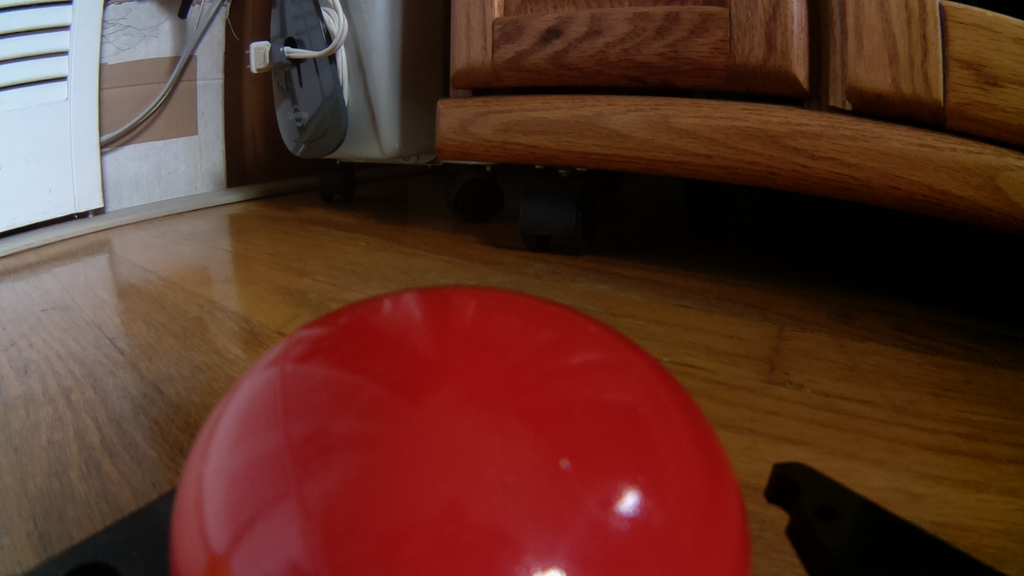ball: (160, 275, 752, 576)
